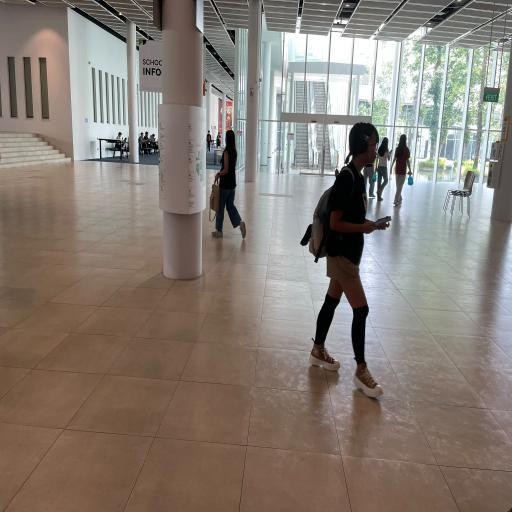person_left: (210, 128, 248, 244)
person_right: (301, 122, 392, 397), (376, 132, 392, 202)
